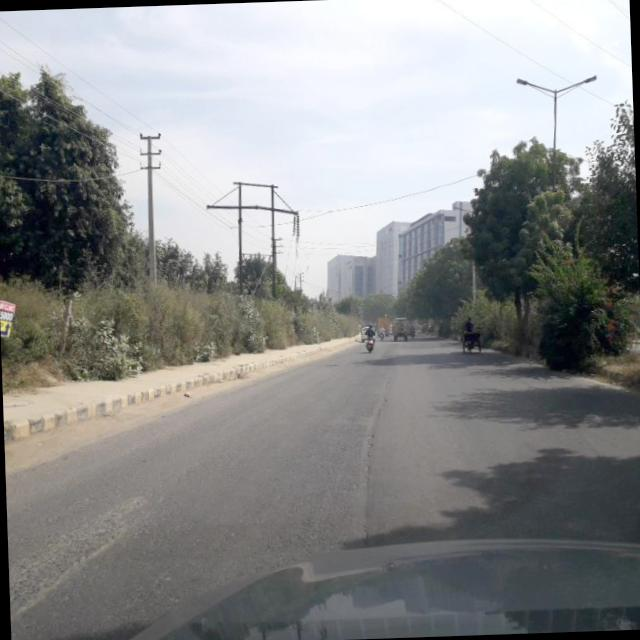pothole: (352, 376, 396, 532)
